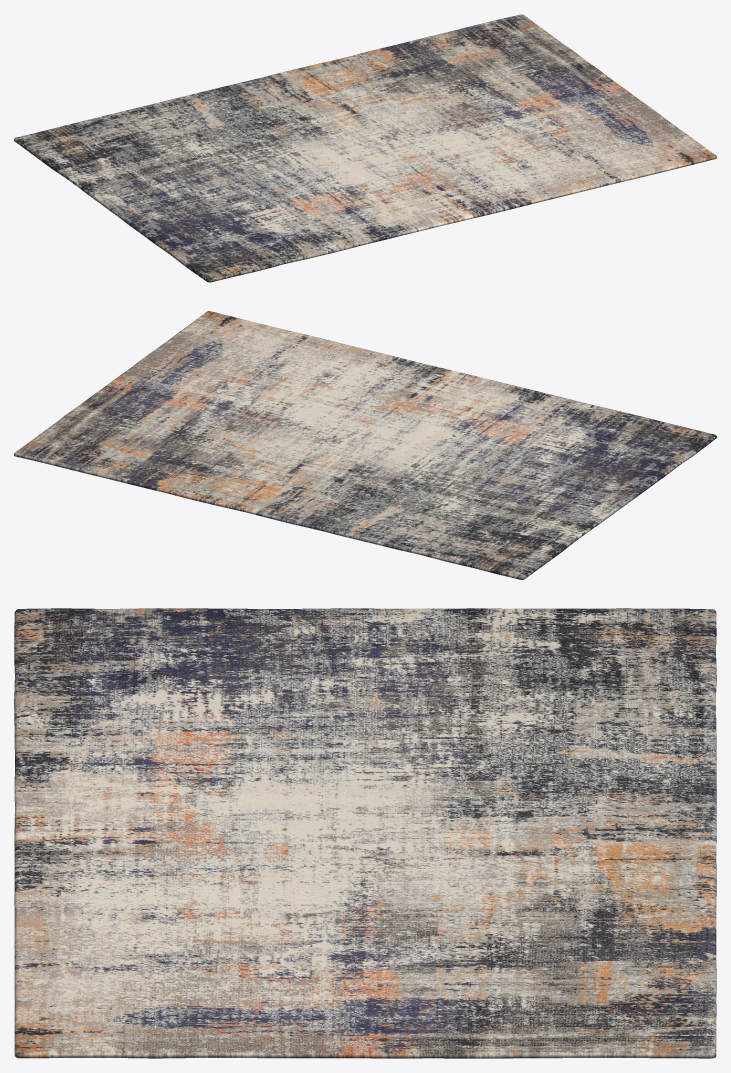
3 views of the same model, one above another, from view 1: azimuth 30°, elevation 25°; view 2: azimuth 150°, elevation 25°; view 3: azimuth 270°, elevation 25° (orthographic). The views are drawn at different scales.
Visible parts, largest first — view 1: Carpet; view 2: Carpet; view 3: Carpet.
Boxes of the visible parts, <box> form: Carpet: <box>14,14,716,282</box>; Carpet: <box>14,311,716,579</box>; Carpet: <box>14,608,716,1058</box>.
Size of the model in its own units: 3.56 by 0.0217 by 2.36.
Materials: 1 (1 with a texture image).
